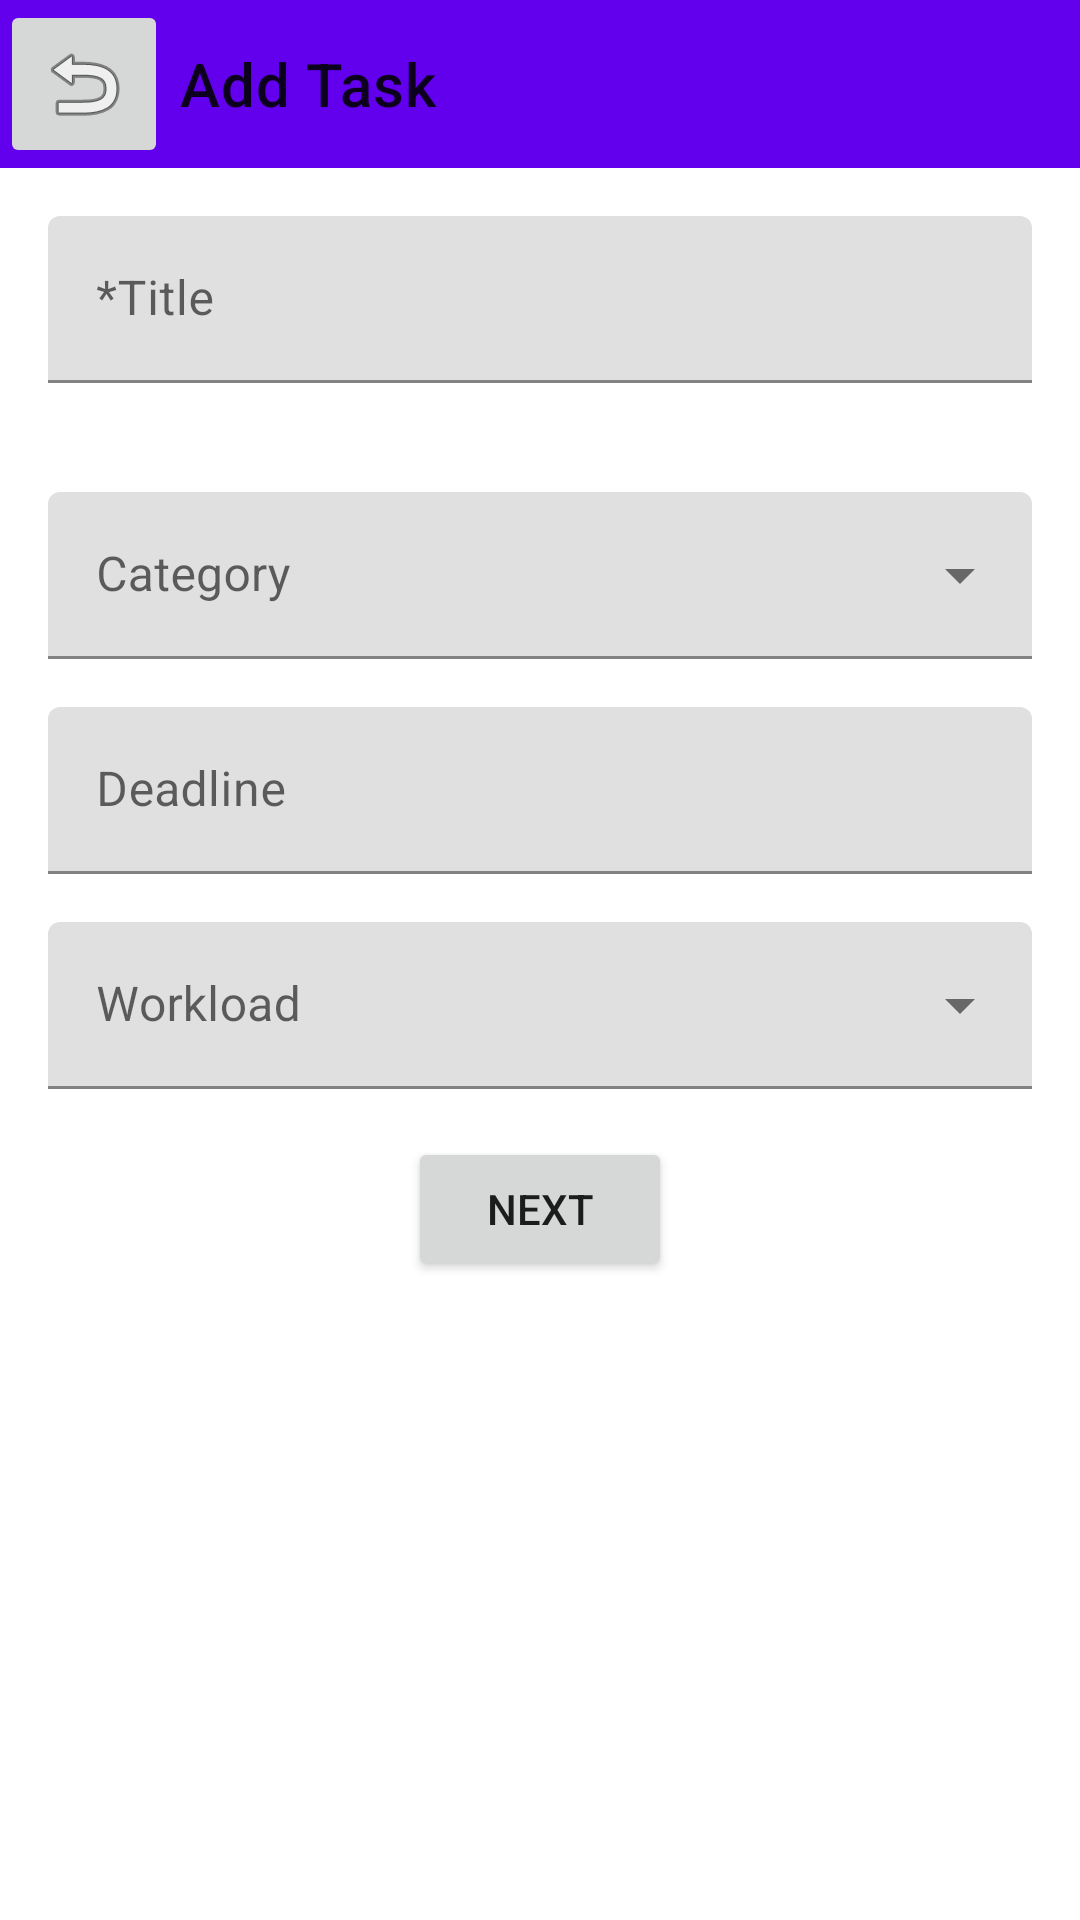

Screen size 1080x1920. Icon name, then its box in pixels as (x1, y1, x2, y2):
revert: (12, 18, 156, 150)
